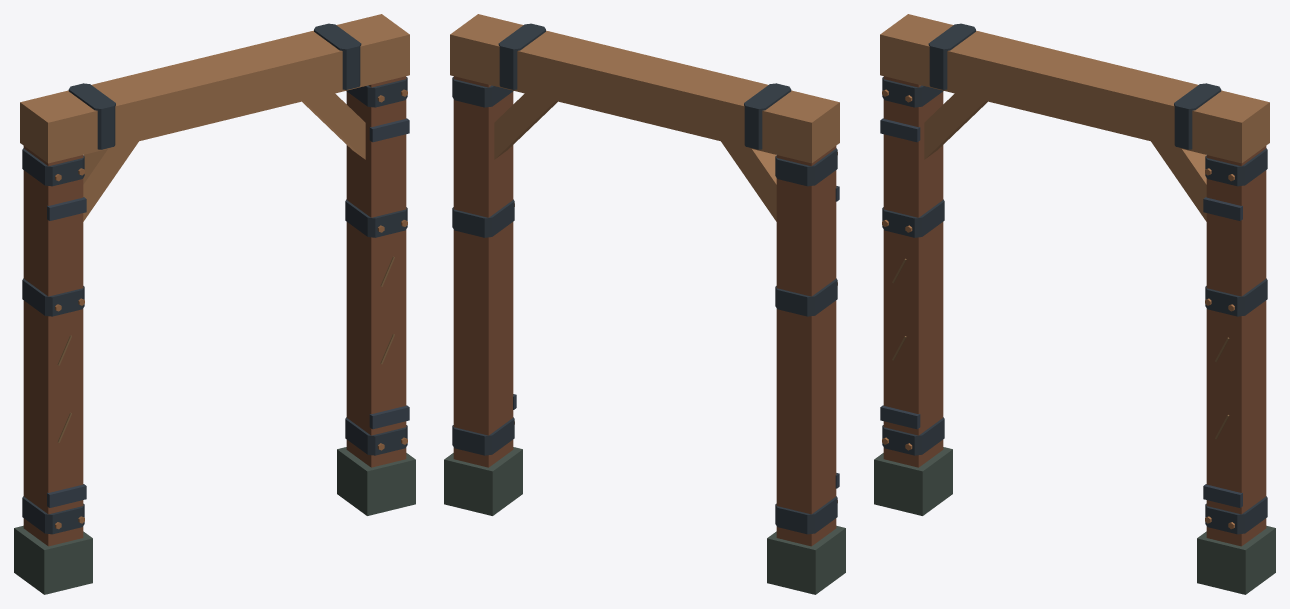
The model's file is iron_support.glb.
3 views of the same model, side by side, from view 1: azimuth 30°, elevation 25°; view 2: azimuth 150°, elevation 25°; view 3: azimuth 330°, elevation 25° (orthographic).
Visible parts, largest first — view 1: geometry; view 2: geometry; view 3: geometry.
Boxes of the visible parts, x1,y1,x2,y2 form: geometry: [14, 14, 415, 594]; geometry: [444, 14, 845, 594]; geometry: [874, 14, 1275, 594].
Size of the model in its own units: 1.91 by 2.32 by 0.2895.
